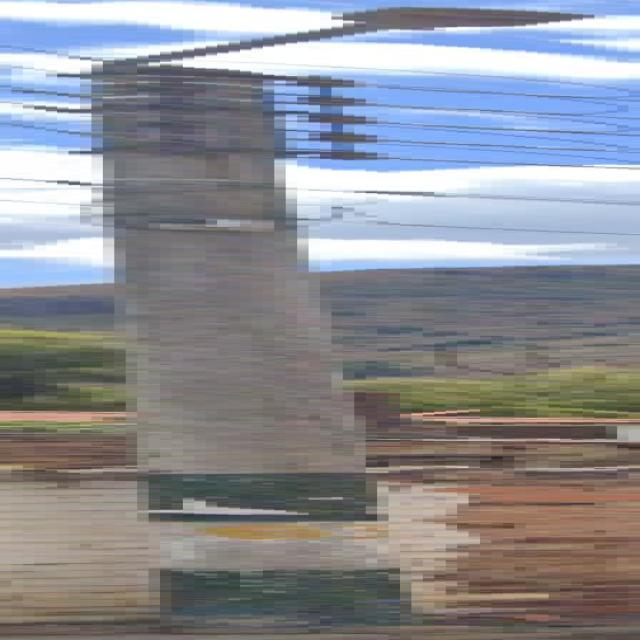Poste: (103, 7, 549, 632)
